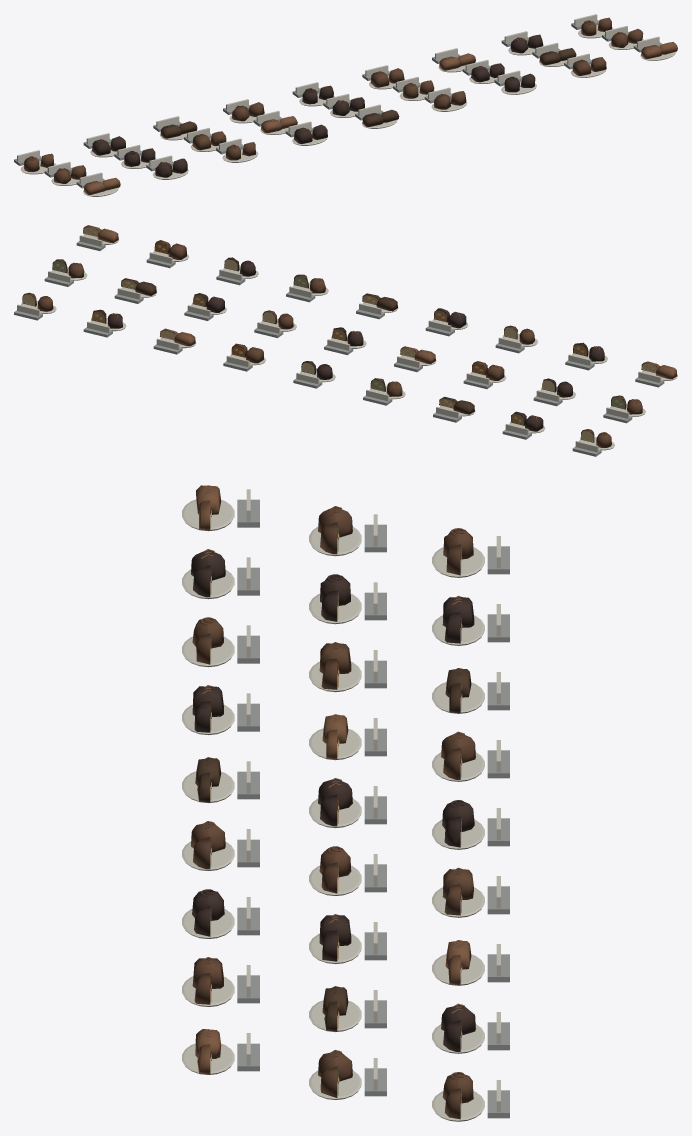
Rendered from chocolates.glb.
3 renders of one model, top to bottom at view 1: azimuth 30°, elevation 25°; view 2: azimuth 150°, elevation 25°; view 3: azimuth 270°, elevation 25°, orthographic. The views are drawn at different scales.
Parts seen in each view (by area): view 1: Sees_chocolates; view 2: Sees_chocolates; view 3: Sees_chocolates.
Boxes of the visible parts, box(x1,y1,x2,y2) form: Sees_chocolates: box(14, 14, 677, 196); Sees_chocolates: box(14, 225, 677, 456); Sees_chocolates: box(182, 485, 509, 1121).
Bounding box in the file's own units: 2.68 × 0.1595 × 0.6425.
